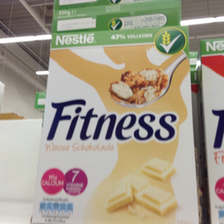cereal: (33, 26, 198, 224)
